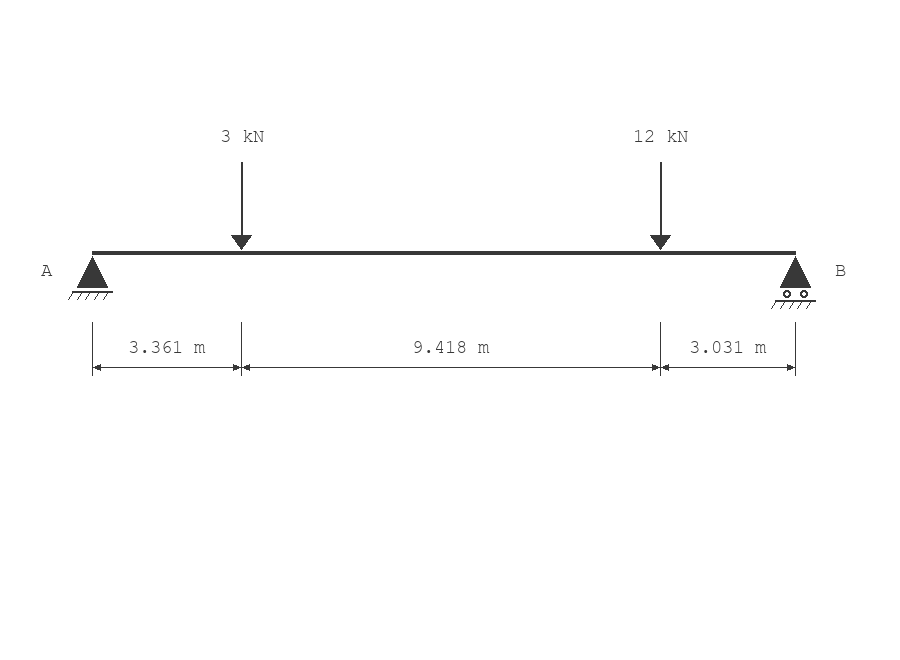pin_support: (68, 256, 113, 300)
point_load: (231, 162, 252, 250), (650, 162, 671, 250)
roller_support: (771, 256, 816, 309)
